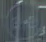bike lane: (4, 4, 42, 41)
